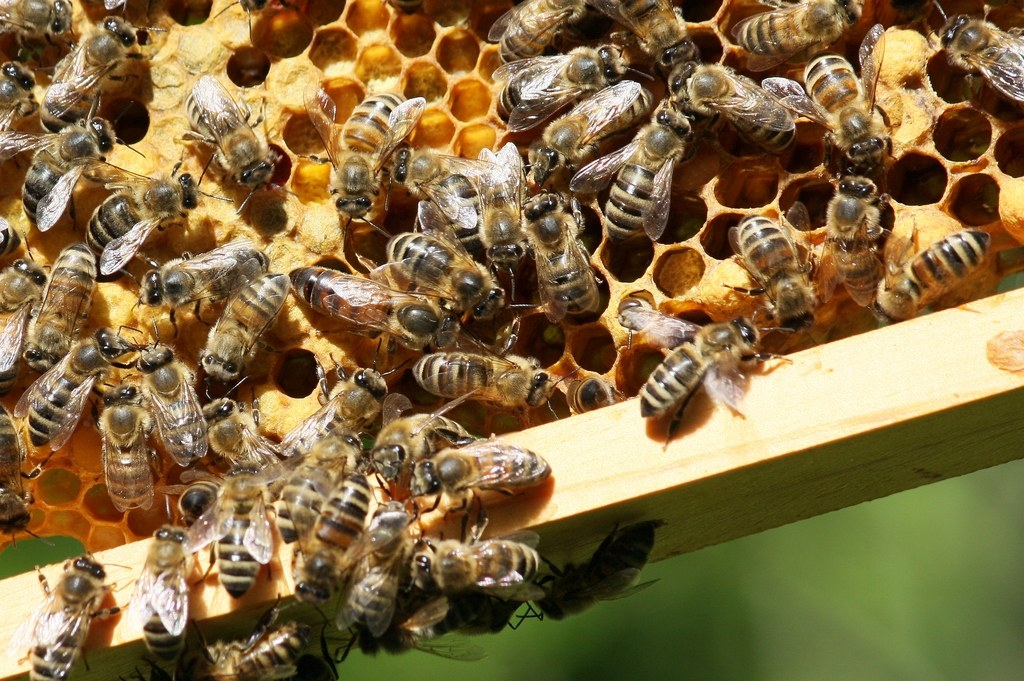bee: (0, 0, 1023, 680), (481, 0, 885, 250), (259, 331, 413, 537), (618, 317, 801, 451), (0, 93, 154, 252), (13, 326, 150, 470), (276, 456, 406, 605), (10, 545, 140, 680), (404, 432, 554, 546), (307, 87, 428, 226), (38, 0, 163, 134), (287, 259, 459, 355), (177, 579, 339, 680), (125, 231, 274, 337), (180, 460, 280, 602), (3, 240, 97, 389), (84, 157, 203, 274), (367, 220, 519, 307), (714, 211, 819, 333), (414, 511, 545, 608), (330, 503, 422, 641), (194, 268, 286, 399), (871, 217, 986, 321), (406, 344, 560, 418), (125, 335, 209, 466), (127, 520, 200, 669), (519, 193, 601, 324), (189, 68, 269, 202), (931, 0, 1023, 108), (819, 163, 881, 317), (93, 389, 157, 517), (0, 227, 50, 383), (0, 0, 85, 56), (0, 49, 45, 131), (547, 369, 616, 412)
insect: (0, 0, 1023, 549)
